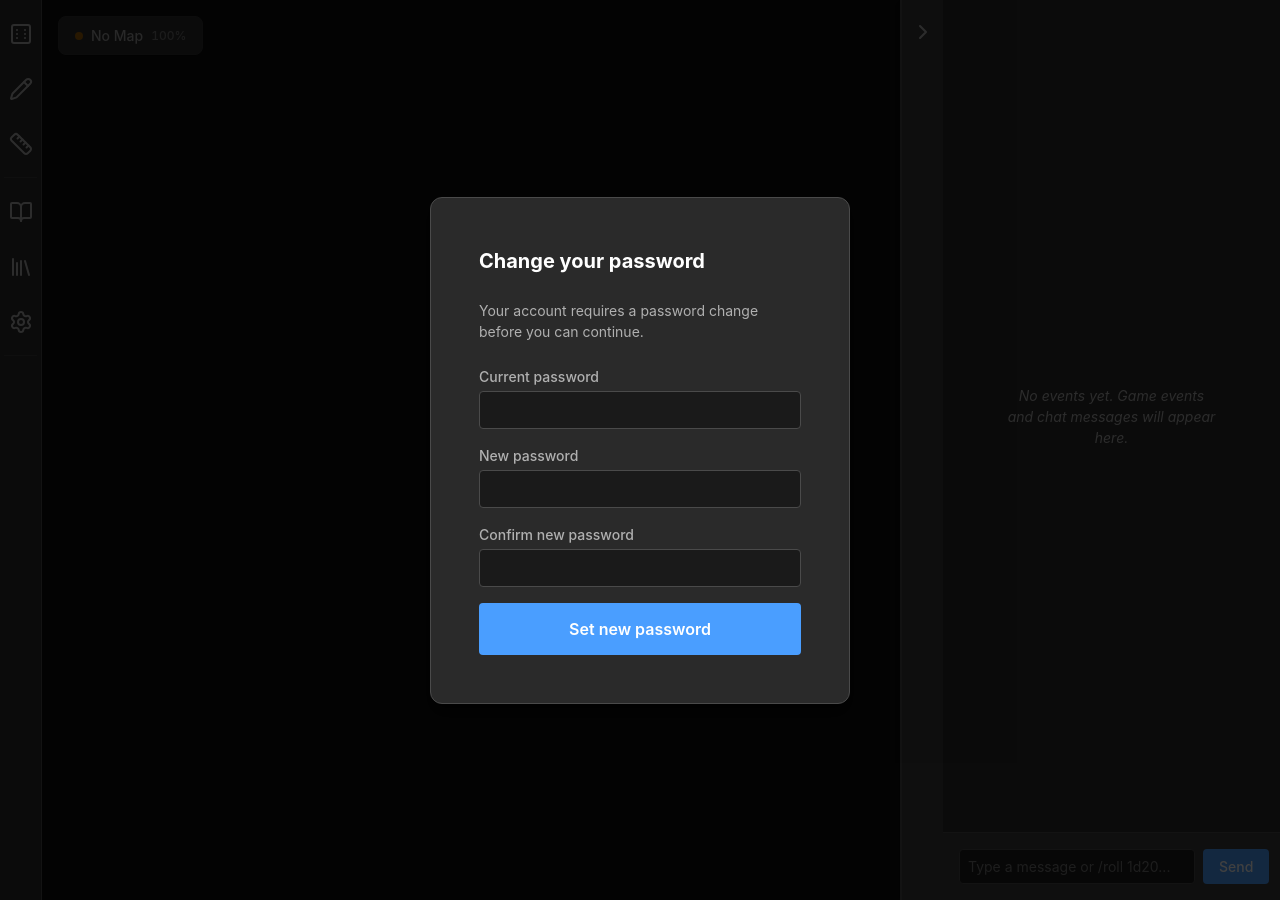
it: PlayLayout forced-password-change modal › shows validation error when passwords do not match
Type "oldpassword" into the password field labelled "Current password" at (640, 410), box [479, 390, 801, 428]
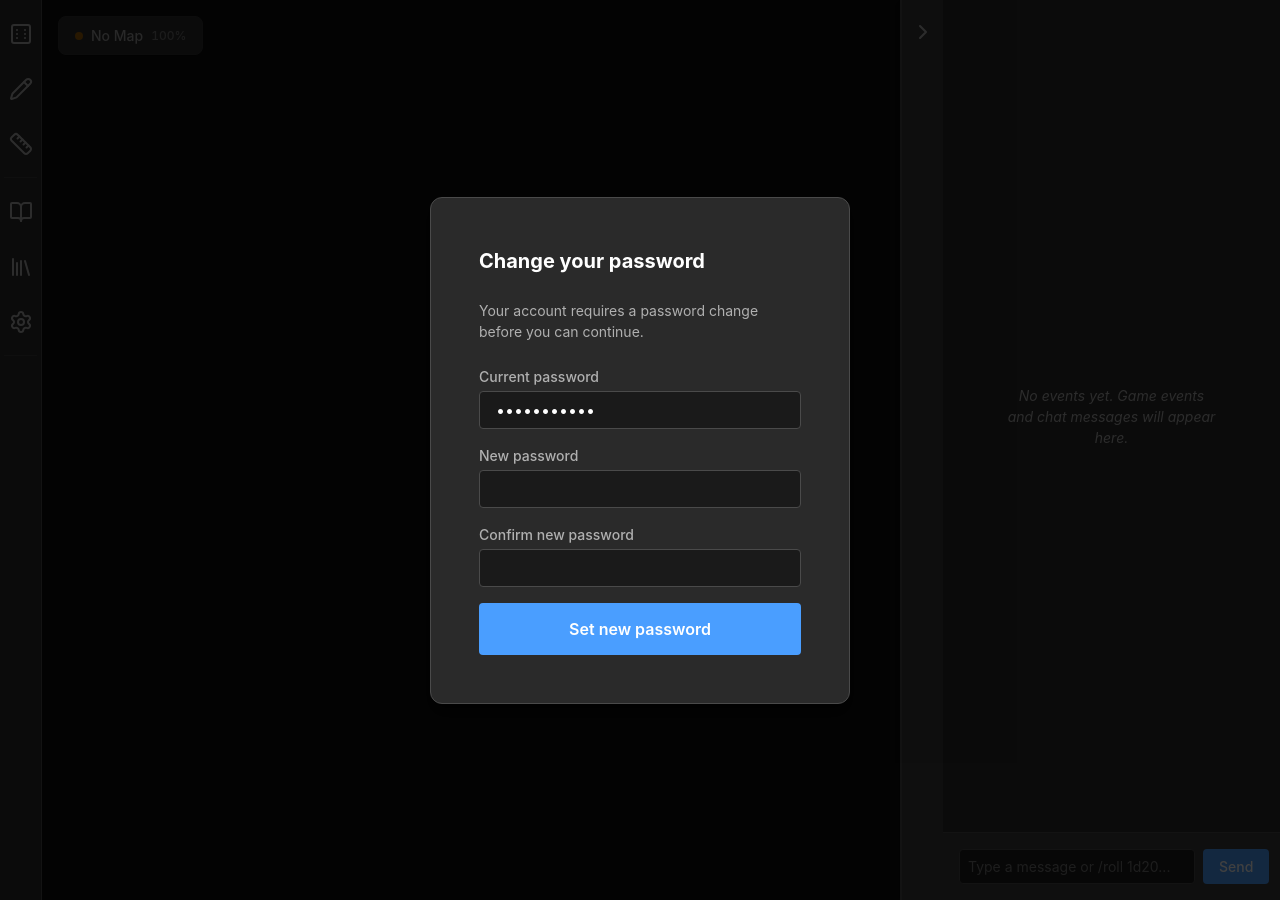
Type "newpassword1" into the password field labelled "New password" at (640, 488), box [479, 470, 801, 508]
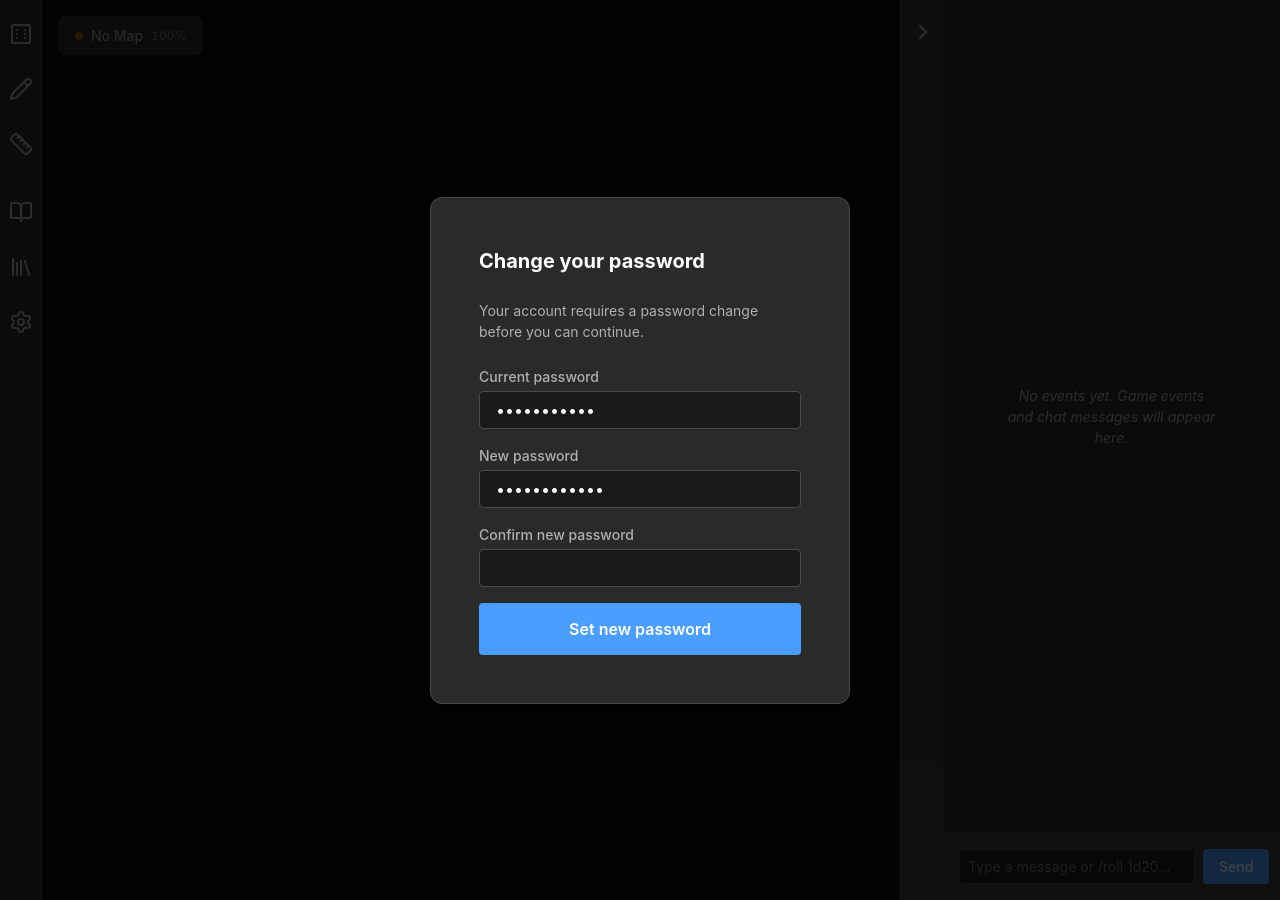
Type "newpassword2" into the password field labelled "Confirm new password" at (640, 568), box [479, 548, 801, 586]
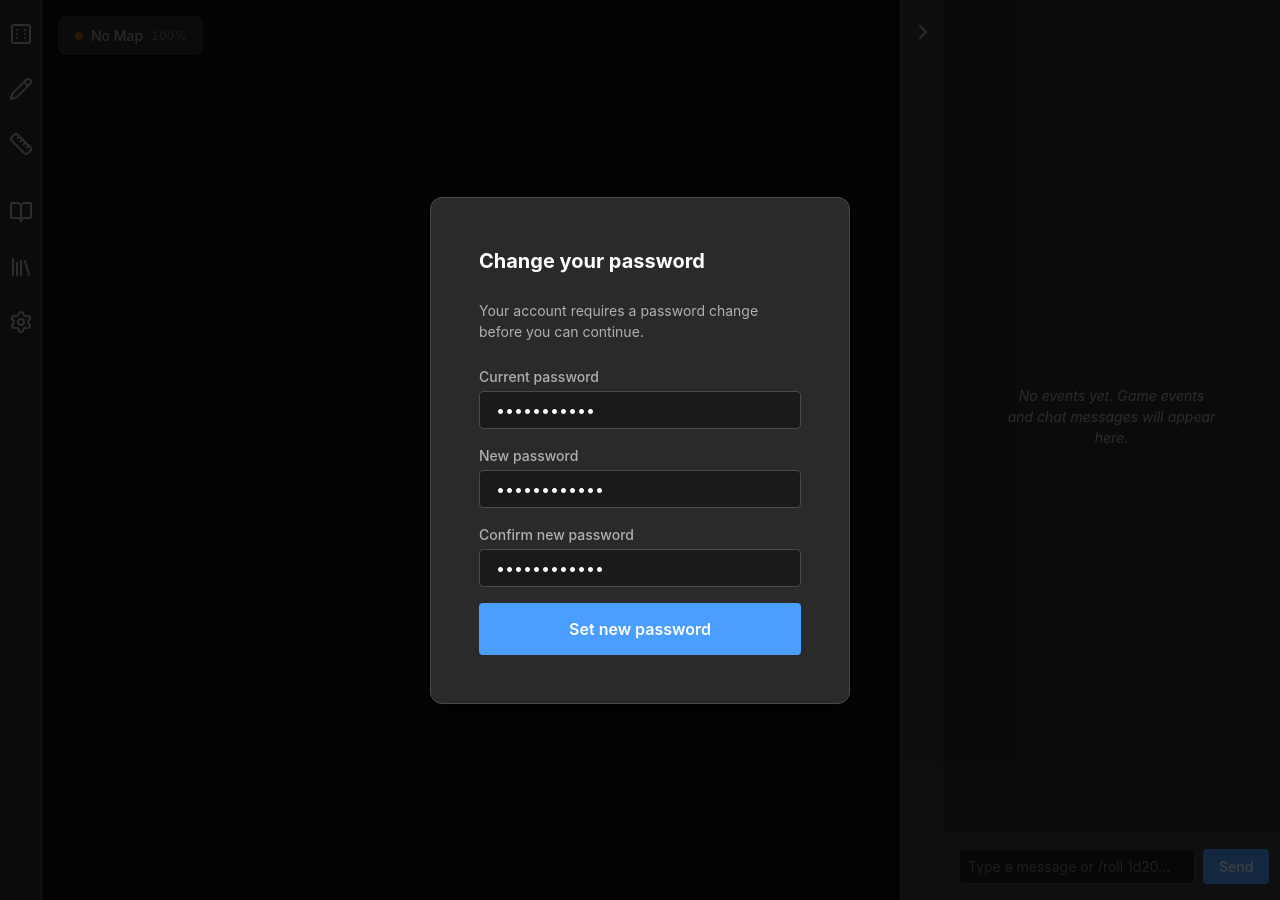
Submit the form, box [479, 366, 801, 654]
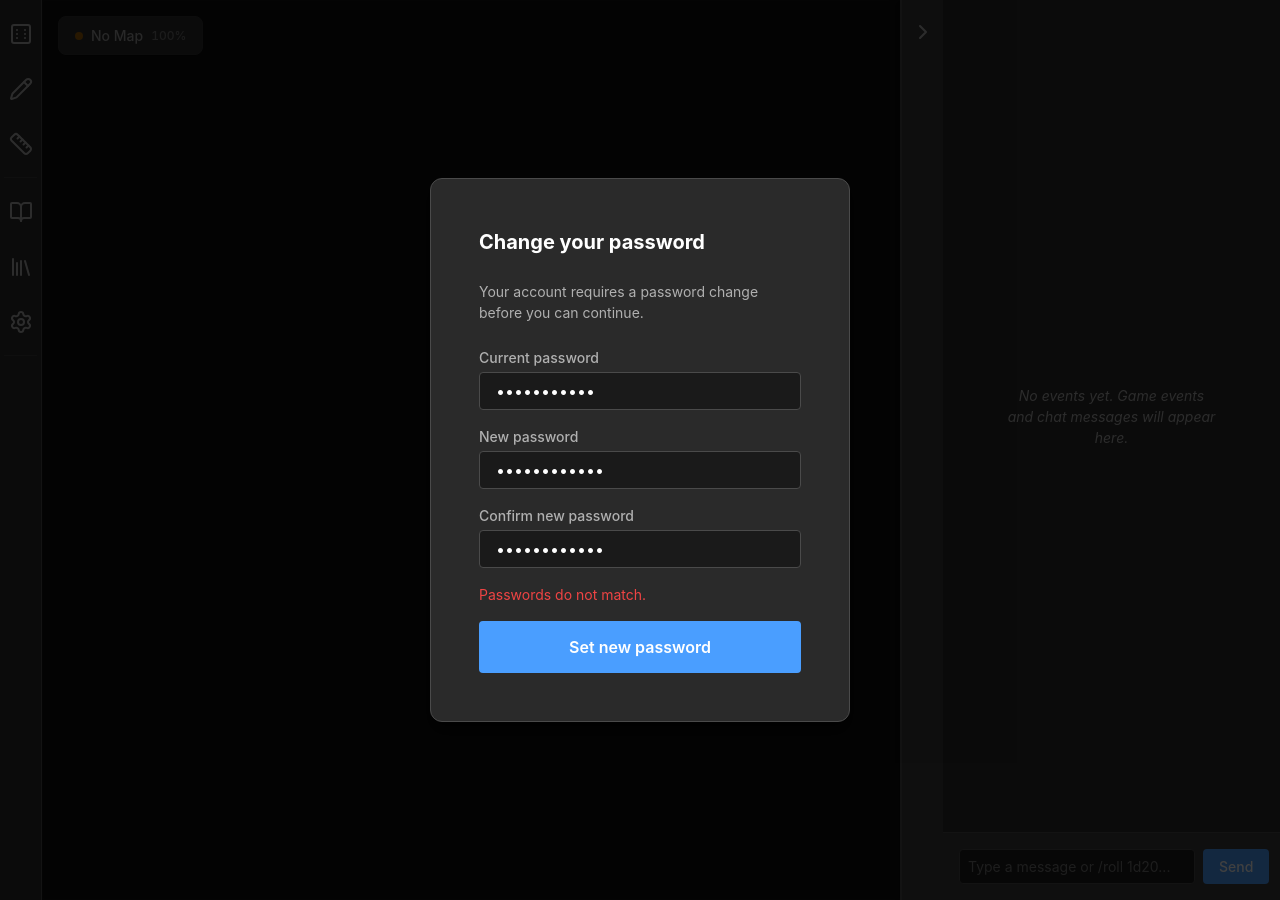
Expected: the message reads "Passwords do not match.", [479, 586, 646, 603]
